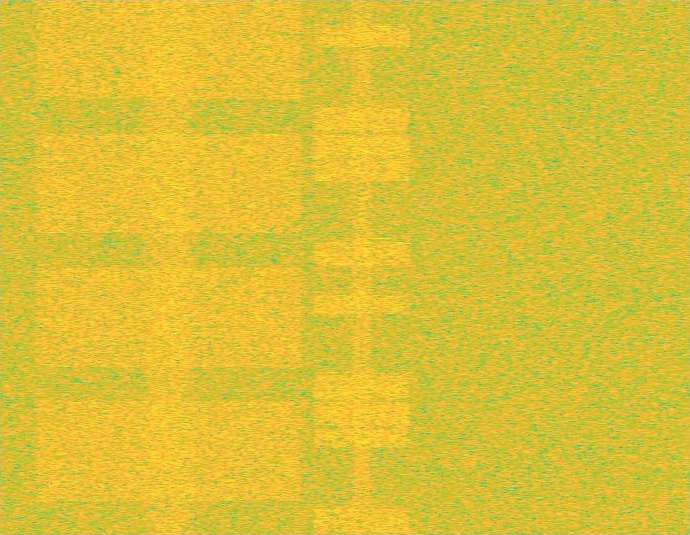5G: (31, 0, 307, 534)
DSSS: (138, 0, 200, 534), (350, 0, 374, 534)
LTE: (310, 0, 414, 534)
Radar: (375, 0, 388, 534)
